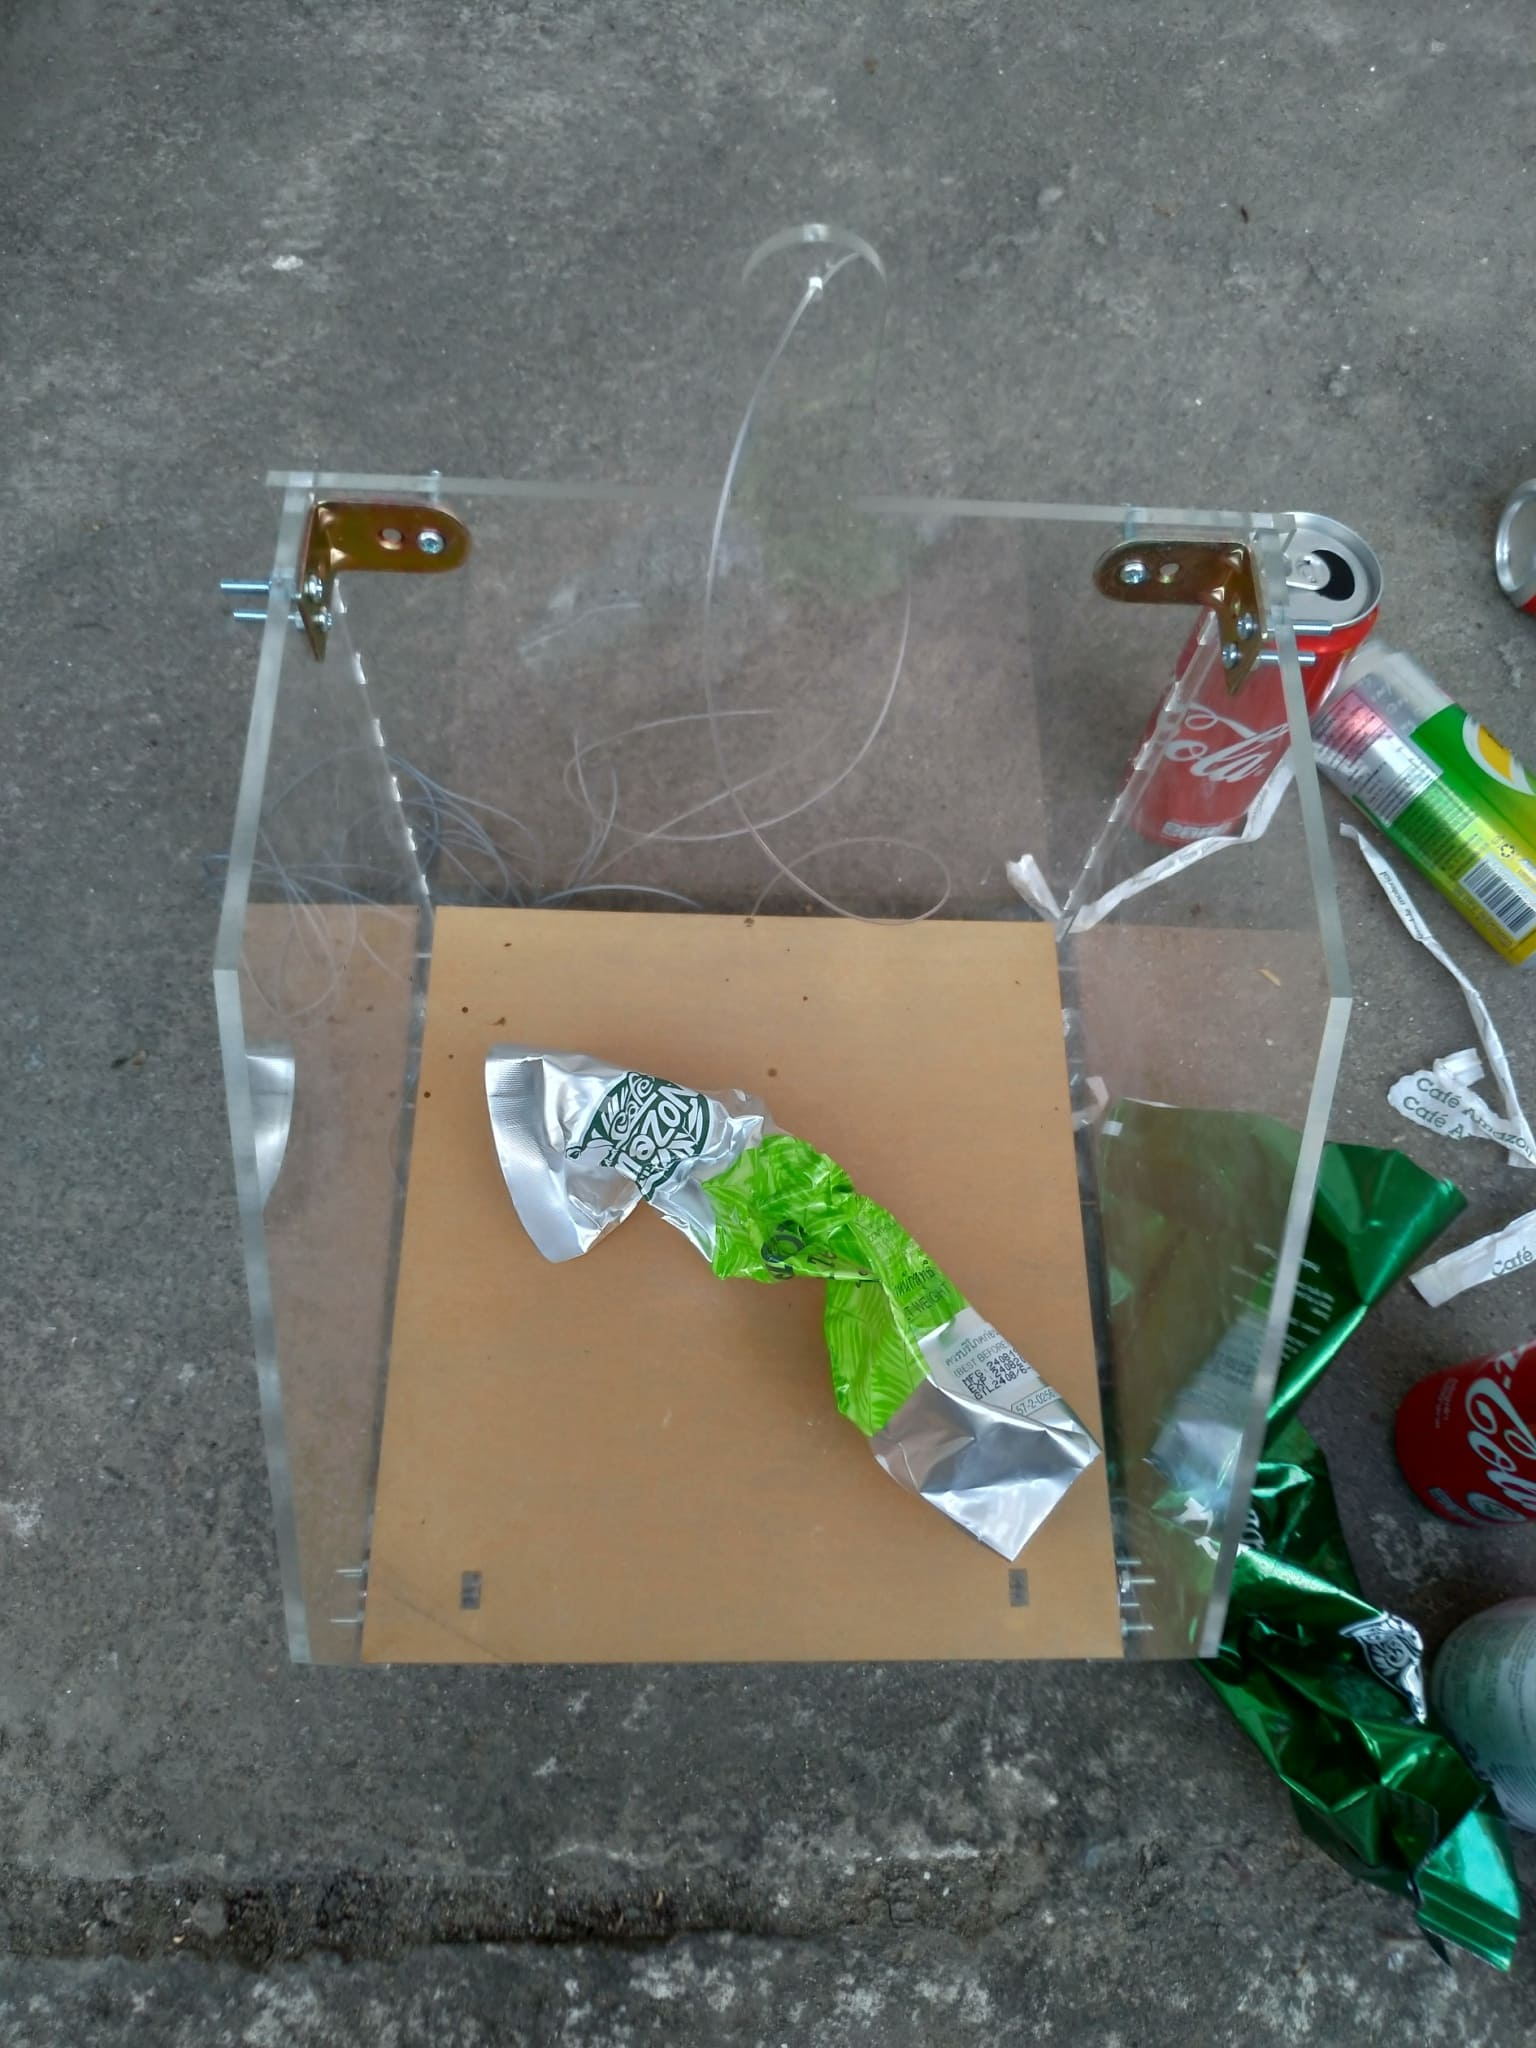AlCan: (1134, 514, 1371, 864), (1317, 639, 1536, 984), (1391, 1327, 1536, 1537)
Others: (1113, 1095, 1518, 1967), (486, 1051, 1091, 1558)
